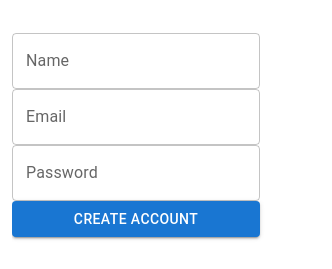
Test: RegisterForm › shows password length error
The width and height of the screenshot is (332, 269).
In the field labelled "Name": (136, 61) top-left (12, 33), bottom-right (260, 89), type "User"
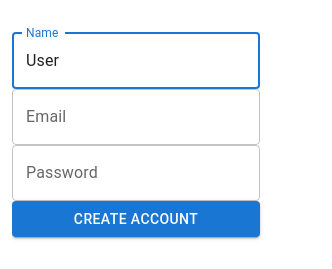
In the field labelled "Email": (136, 117) top-left (12, 89), bottom-right (260, 145), type "user@example.com"
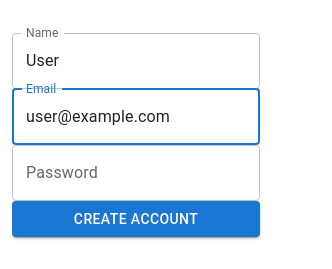
In the password field labelled "Password": (136, 173) top-left (12, 145), bottom-right (260, 201), type "short"
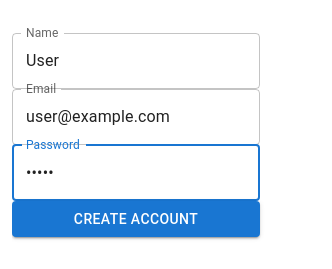
Click the button "Create account": (136, 219) top-left (12, 201), bottom-right (260, 237)
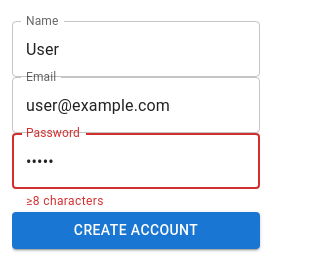
expect the text "≥8 characters" is shown: met, box top-left (26, 194), bottom-right (104, 208)
